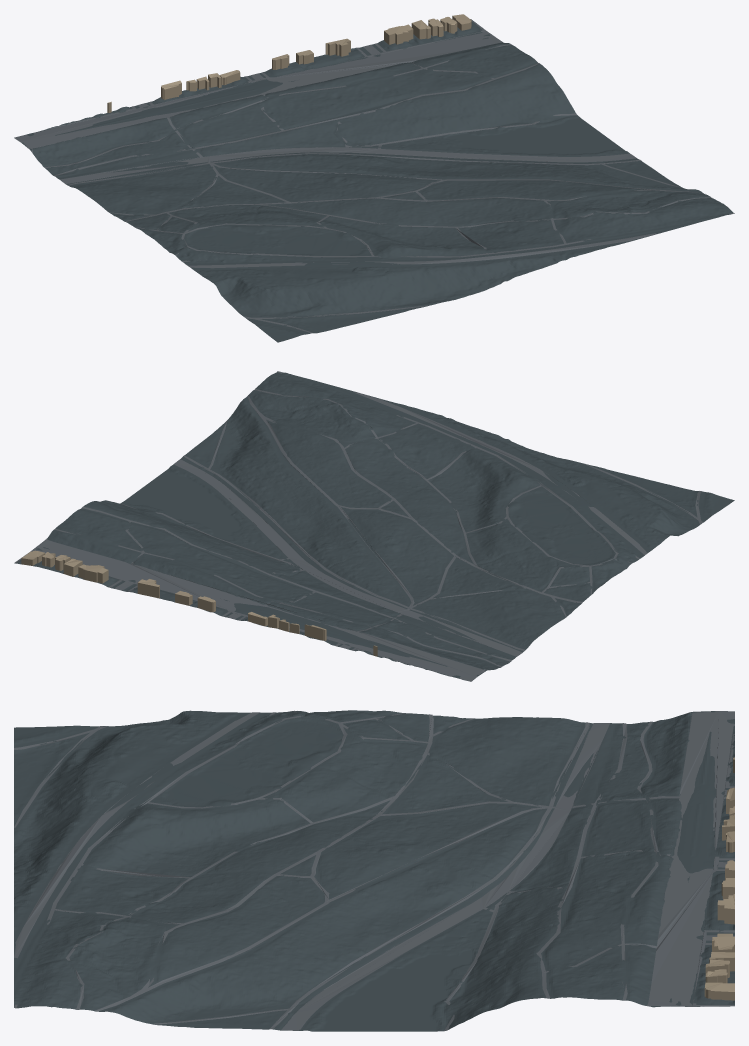
File: epsg26910-1419-10885.lod0.glb
3 renders of one model, top to bottom at view 1: azimuth 30°, elevation 25°; view 2: azimuth 150°, elevation 25°; view 3: azimuth 270°, elevation 25°, orthographic. The views are drawn at different scales.
Visible parts, largest first — view 1: epsg26910-1419-10885-lod0; view 2: epsg26910-1419-10885-lod0; view 3: epsg26910-1419-10885-lod0.
Boxes of the visible parts, x1=… form: epsg26910-1419-10885-lod0: x1=14, y1=14, x2=734, y2=342; epsg26910-1419-10885-lod0: x1=14, y1=371, x2=734, y2=681; epsg26910-1419-10885-lod0: x1=14, y1=710, x2=734, y2=1031.
Size of the model in its own units: 384 by 25.44 by 384.
